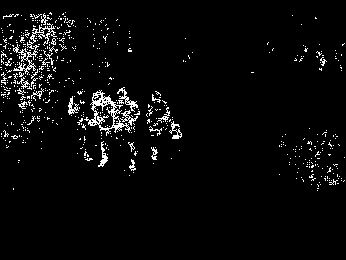person: (146, 90, 182, 159), (114, 87, 139, 171), (92, 88, 112, 163), (69, 91, 90, 160)
